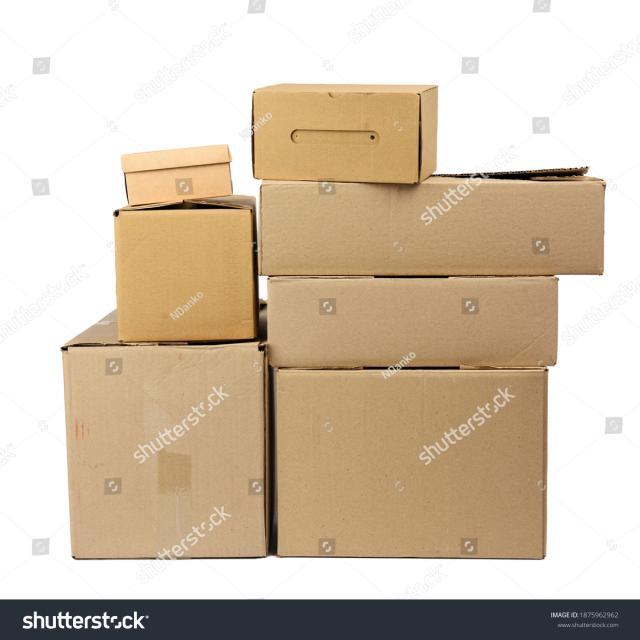BoxFace: (274, 366, 549, 561), (60, 347, 266, 562), (257, 181, 604, 275), (266, 274, 558, 368), (113, 206, 254, 344), (250, 89, 418, 182), (121, 146, 235, 206)
